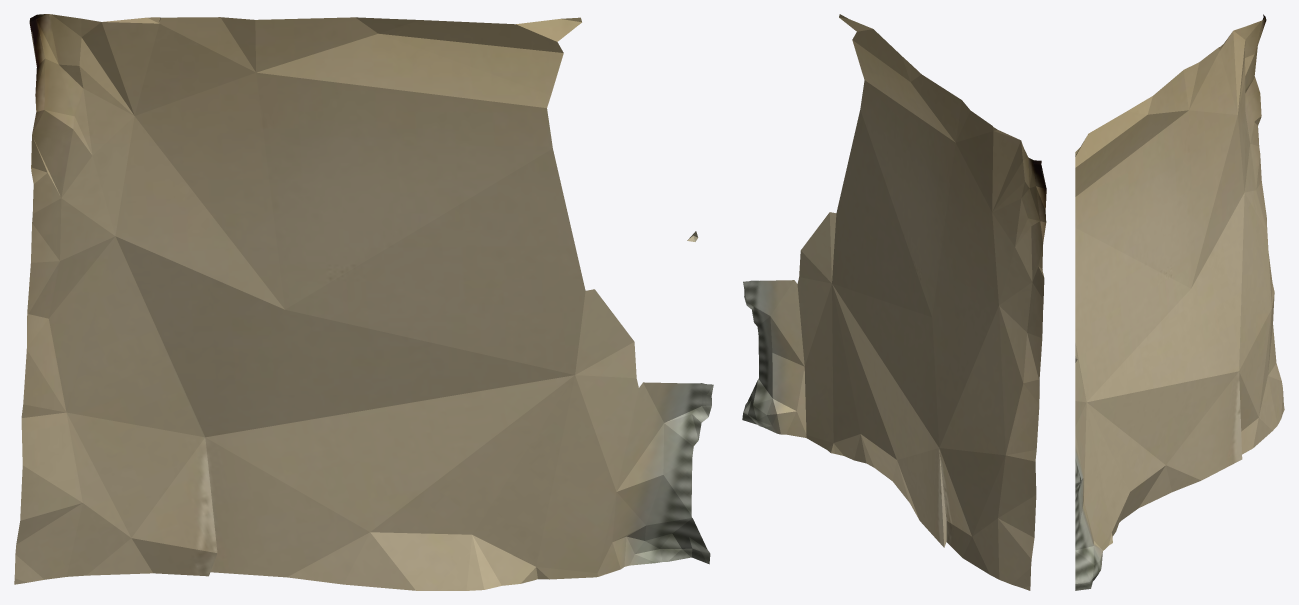
The picture shows the model from 3 angles, left to right: view 1: azimuth 30°, elevation 25°; view 2: azimuth 150°, elevation 25°; view 3: azimuth 270°, elevation 25°; orthographic projection. The views are drawn at different scales.
Bounding box in the file's own units: 1.66 × 1.67 × 0.8029.
2 materials, 2 textured.
